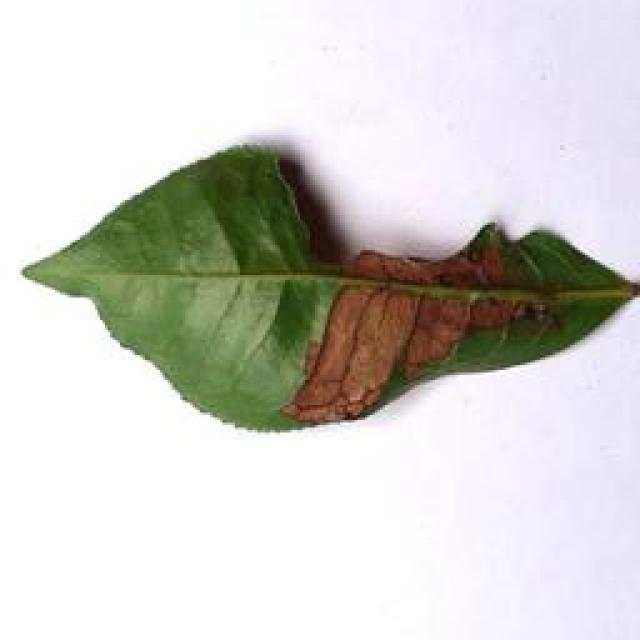Brown Blight: (3, 140, 638, 442)
